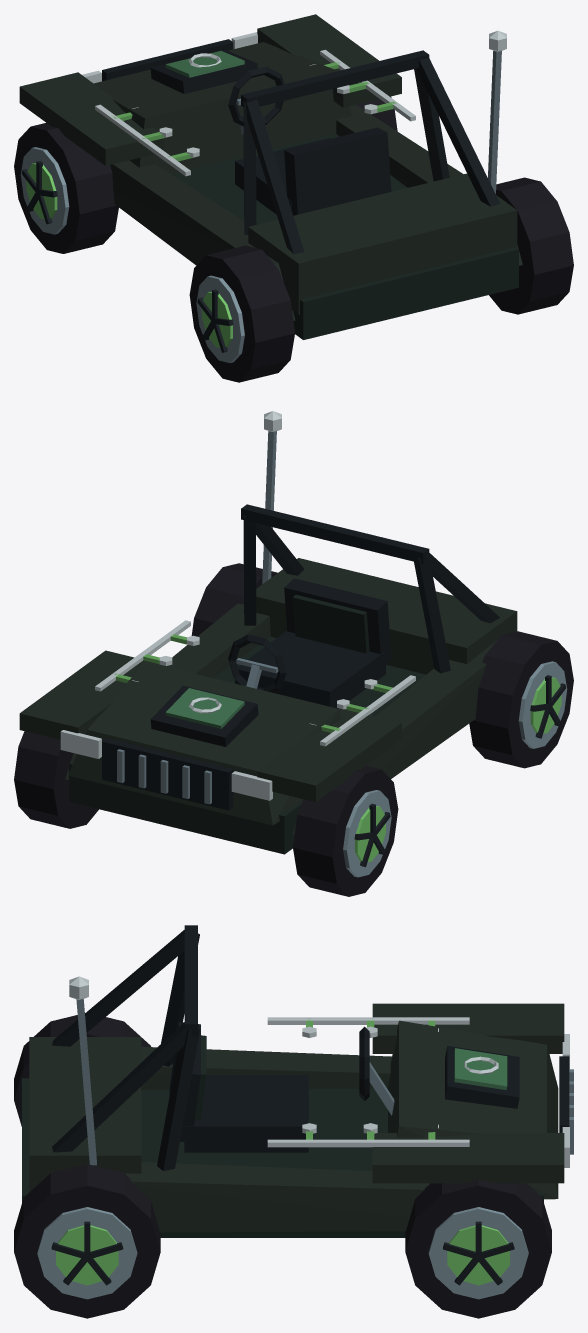
Rendered from kart.glb.
3 views of the same model, one above another, from view 1: azimuth 30°, elevation 25°; view 2: azimuth 150°, elevation 25°; view 3: azimuth 270°, elevation 25° (orthographic). The views are drawn at different scales.
Parts seen in each view (by area): view 1: identity-jeep-jeep-offroad-frame, wheel-rear-left, wheel-front-left, identity-jeep-driver-cockpit, wheel-rear-right, identity-jeep-motif-scanner, identity-jeep-motif-circuit, identity-jeep-motif-antenna; view 2: identity-jeep-jeep-offroad-frame, identity-jeep-driver-cockpit, wheel-rear-left, wheel-front-left, wheel-front-right, identity-jeep-motif-scanner, identity-jeep-motif-circuit, wheel-rear-right, identity-jeep-motif-antenna; view 3: identity-jeep-jeep-offroad-frame, wheel-rear-right, wheel-front-right, identity-jeep-driver-cockpit, identity-jeep-motif-circuit, identity-jeep-motif-scanner, wheel-rear-left, identity-jeep-motif-antenna.
Part boxes in pixels (left/top/right/bottom): identity-jeep-jeep-offroad-frame: left=19, top=14, right=522, bottom=339; wheel-rear-left: left=189, top=245, right=294, bottom=382; wheel-front-left: left=14, top=123, right=118, bottom=253; identity-jeep-driver-cockpit: left=228, top=66, right=391, bottom=215; wheel-rear-right: left=489, top=177, right=573, bottom=314; identity-jeep-motif-scanner: left=150, top=49, right=257, bottom=93; identity-jeep-motif-circuit: left=95, top=49, right=415, bottom=176; identity-jeep-motif-antenna: left=488, top=30, right=506, bottom=193; identity-jeep-jeep-offroad-frame: left=19, top=504, right=517, bottom=854; identity-jeep-driver-cockpit: left=228, top=578, right=391, bottom=708; wheel-rear-left: left=469, top=631, right=573, bottom=768; wheel-front-left: left=293, top=765, right=398, bottom=896; wheel-front-right: left=14, top=731, right=98, bottom=828; identity-jeep-motif-scanner: left=150, top=685, right=258, bottom=746; identity-jeep-motif-circuit: left=95, top=620, right=415, bottom=746; wheel-rear-right: left=191, top=563, right=277, bottom=636; identity-jeep-motif-antenna: left=262, top=411, right=281, bottom=583; identity-jeep-jeep-offroad-frame: left=22, top=925, right=573, bottom=1237; wheel-rear-right: left=14, top=1164, right=160, bottom=1318; wheel-front-right: left=405, top=1179, right=551, bottom=1318; identity-jeep-driver-cockpit: left=169, top=1022, right=394, bottom=1152; identity-jeep-motif-circuit: left=267, top=1017, right=469, bottom=1147; identity-jeep-motif-scanner: left=445, top=1045, right=519, bottom=1108; wheel-rear-left: left=14, top=1015, right=150, bottom=1126; identity-jeep-motif-antenna: left=69, top=976, right=96, bottom=1165.
Size of the model in its own units: 2.13 by 1.72 by 2.75.
